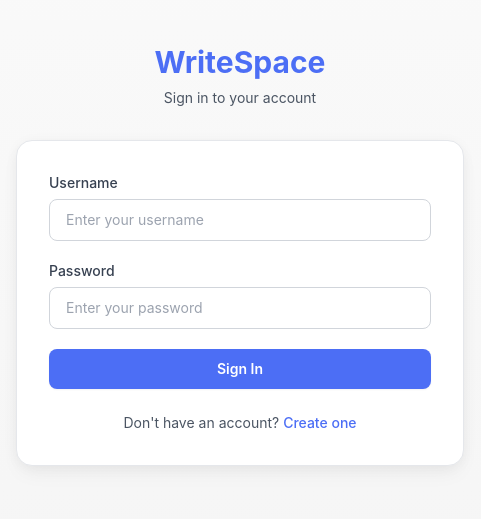
Test case: LoginPage › validation and error display › should display error message on failed login
Type "wronguser" into the field labelled "Username".
click(240, 220); type("wronguser")  # box [49, 199, 431, 241]
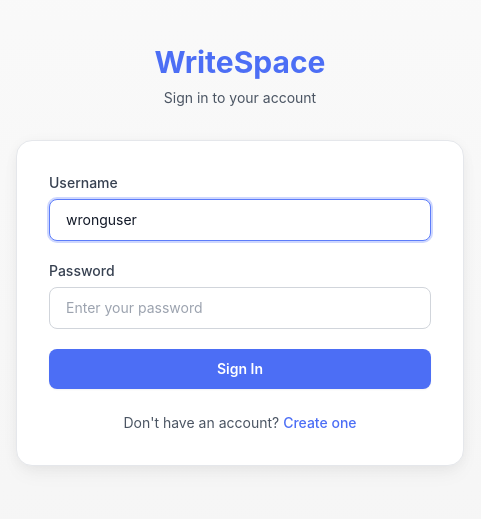
Type "wrongpass" into the password field labelled "Password".
click(240, 308); type("wrongpass")  # box [49, 287, 431, 329]
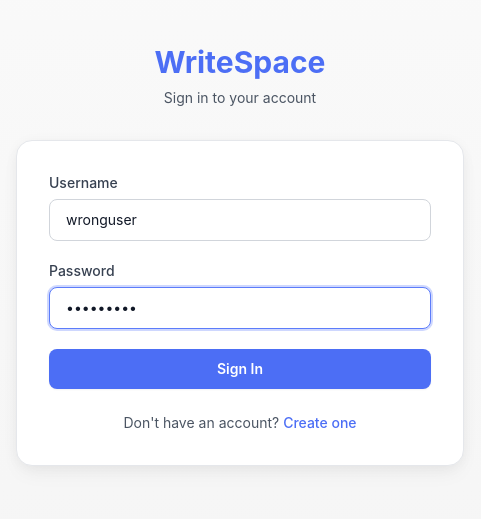
Click the button "Sign In".
click(240, 369)  # box [49, 349, 431, 389]
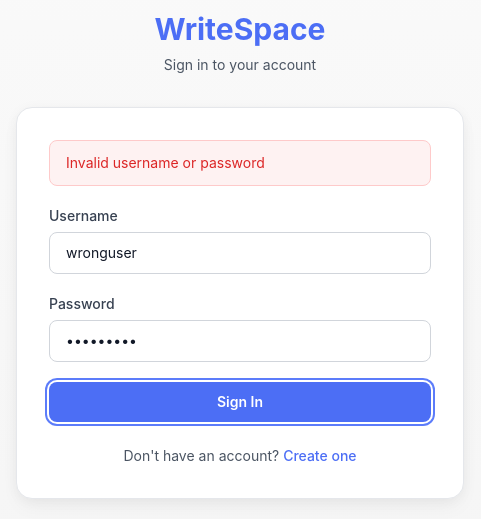
Result: the message reads "Invalid username or password" at [66, 154, 265, 171]
